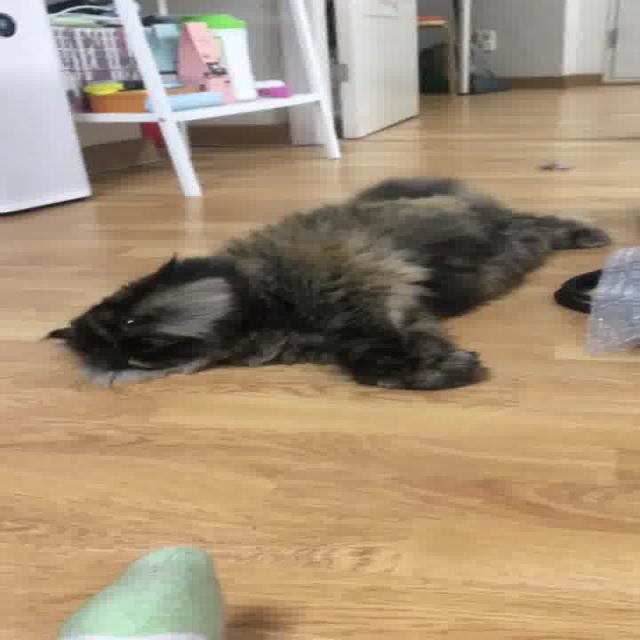cat: (23, 175, 622, 392)
